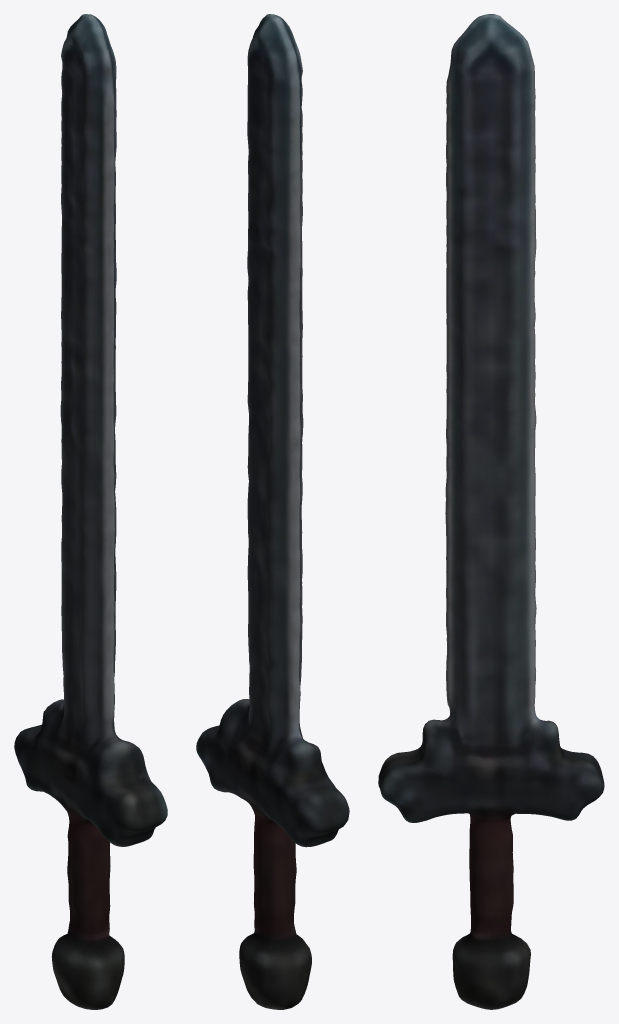
File: sword.fbx
The picture shows the model from 3 angles, left to right: view 1: azimuth 30°, elevation 25°; view 2: azimuth 210°, elevation 25°; view 3: azimuth 270°, elevation 25°; orthographic projection.
Parts seen in each view (by area): view 1: mesh; view 2: mesh; view 3: mesh.
Part boxes in pixels (box(x1,y1,x2,y2)): mesh: box(14, 14, 167, 1009); mesh: box(196, 14, 349, 1009); mesh: box(378, 14, 604, 1009).
Size of the model in its own units: 15.2 by 240 by 49.57.
1 material, 1 textured.
